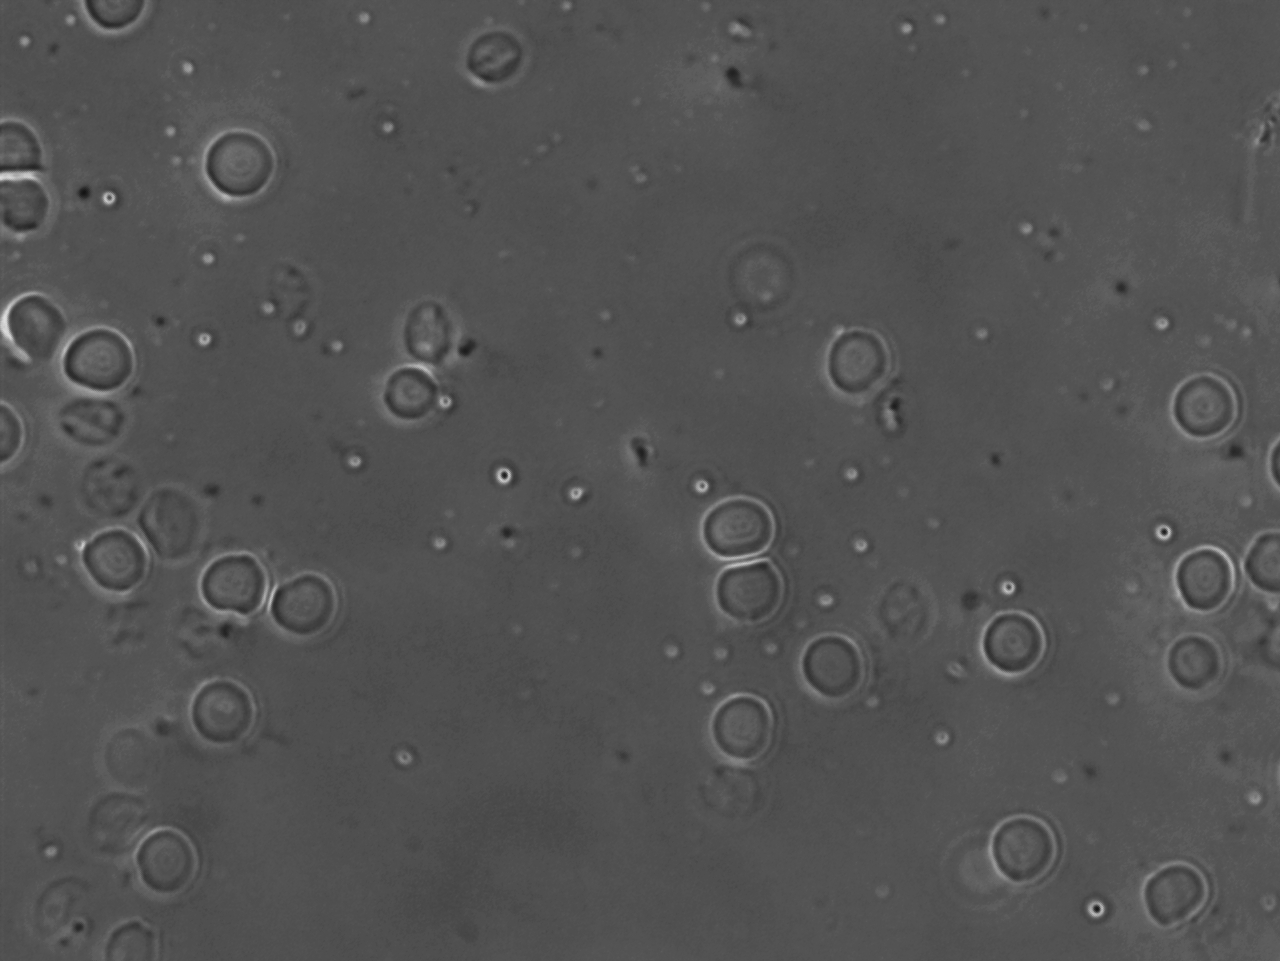depth:0: (1133, 839, 1235, 947), (978, 797, 1081, 901), (250, 552, 352, 656), (782, 611, 883, 716), (372, 345, 479, 443), (806, 313, 911, 410), (183, 530, 278, 633), (1161, 527, 1261, 624), (688, 479, 790, 570), (180, 666, 266, 772), (697, 552, 796, 641), (700, 678, 797, 768), (72, 510, 163, 605), (190, 121, 281, 215), (1160, 621, 1253, 712), (975, 599, 1063, 692), (1160, 362, 1248, 456), (51, 322, 146, 409), (126, 815, 216, 903), (1237, 516, 1280, 598)
